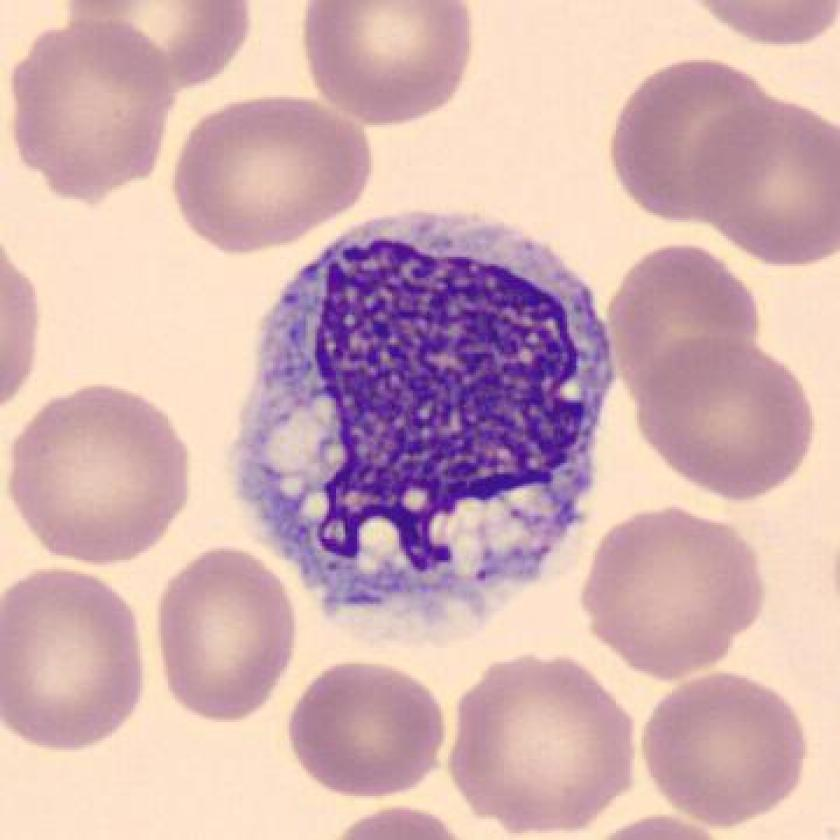monocyte: (214, 198, 634, 640)
